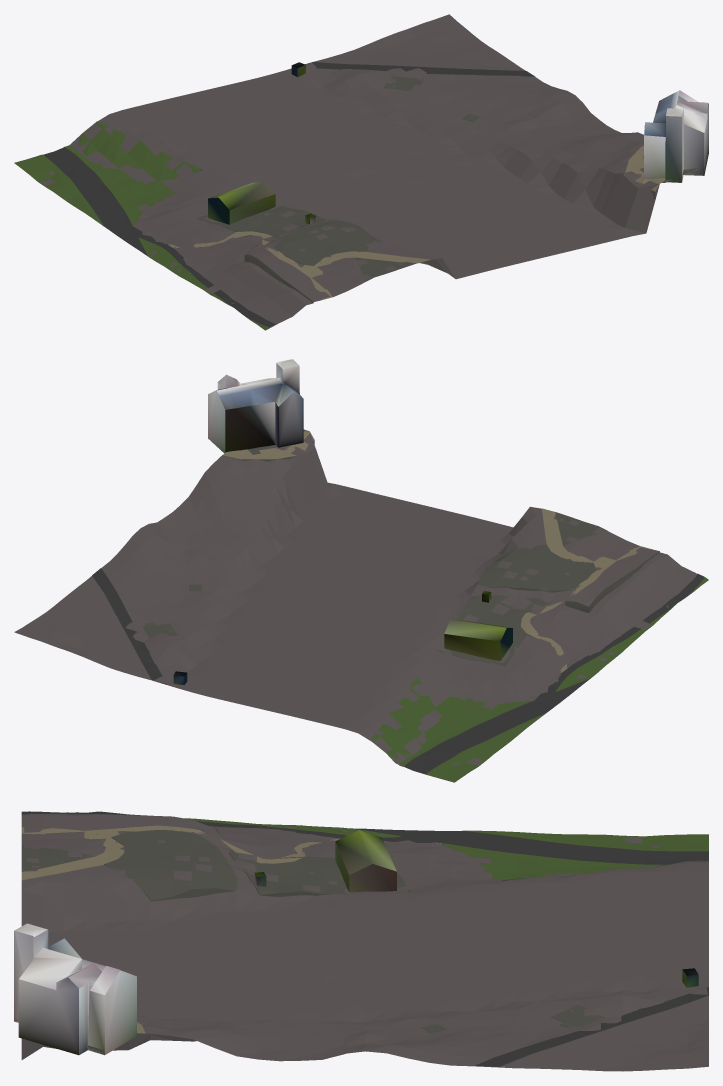
3 renders of one model, top to bottom at view 1: azimuth 30°, elevation 25°; view 2: azimuth 150°, elevation 25°; view 3: azimuth 270°, elevation 25°, orthographic. The views are drawn at different scales.
Parts seen in each view (by area): view 1: c_m07_m13; view 2: c_m07_m13; view 3: c_m07_m13.
Boxes of the visible parts, x1=… form: c_m07_m13: x1=14, y1=14, x2=708, y2=330; c_m07_m13: x1=14, y1=359, x2=708, y2=782; c_m07_m13: x1=14, y1=811, x2=708, y2=1071.
Size of the model in its own units: 137 by 37.74 by 129.
